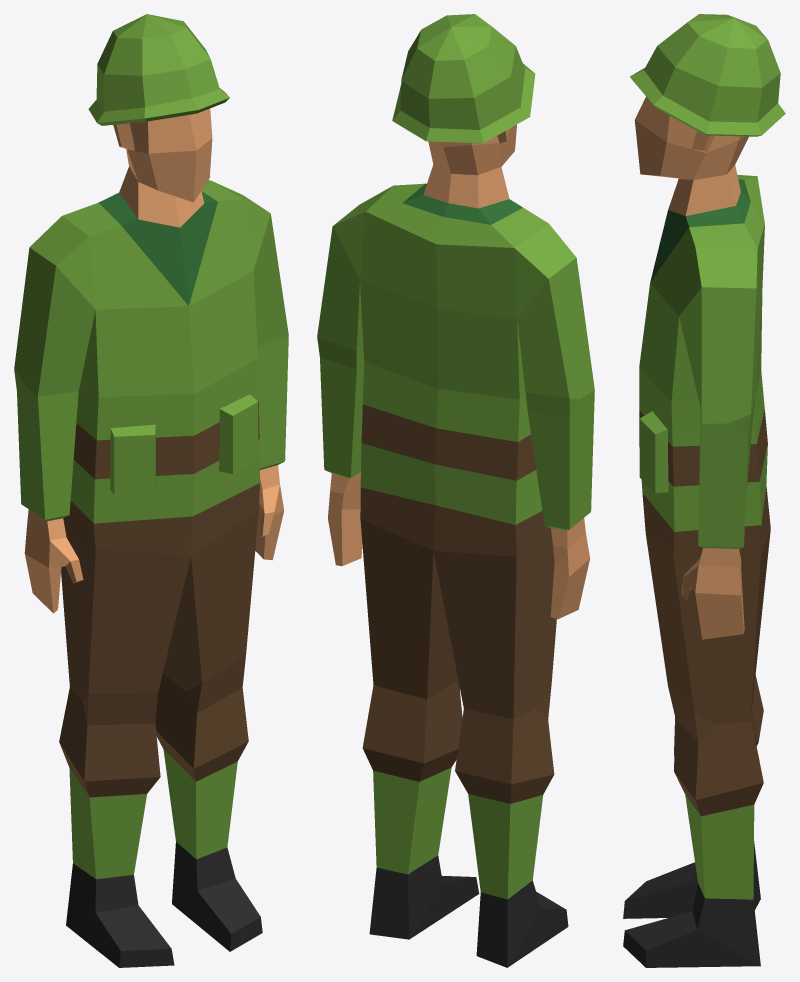
Rendered from people_man-soldier-us.fbx.
3 renders of one model, left to right at view 1: azimuth 30°, elevation 25°; view 2: azimuth 150°, elevation 25°; view 3: azimuth 270°, elevation 25°, orthographic.
Visible parts, largest first — view 1: people_man_soldier_us; view 2: people_man_soldier_us; view 3: people_man_soldier_us.
Boxes of the visible parts, x1,y1,x2,y2 form: people_man_soldier_us: [14, 14, 288, 967]; people_man_soldier_us: [317, 14, 594, 967]; people_man_soldier_us: [623, 14, 785, 967].
Size of the model in its own units: 58.07 by 200 by 32.26.
